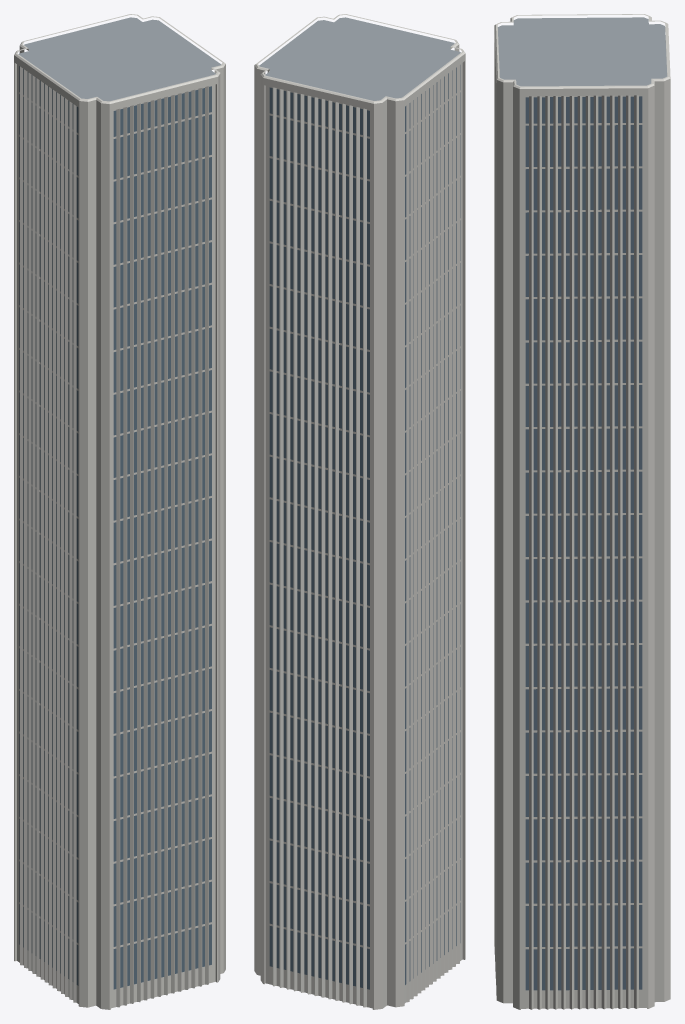
The picture shows the model from 3 angles, left to right: view 1: azimuth 30°, elevation 25°; view 2: azimuth 150°, elevation 25°; view 3: azimuth 270°, elevation 25°; orthographic projection.
Parts seen in each view (by area): view 1: aon-center; view 2: aon-center; view 3: aon-center.
Boxes of the visible parts, bbox=[...] form: aon-center: bbox=[14, 14, 225, 1009]; aon-center: bbox=[254, 14, 465, 1009]; aon-center: bbox=[494, 14, 670, 1009].
Bounding box in the file's own units: 59.96 × 346 × 59.96.
